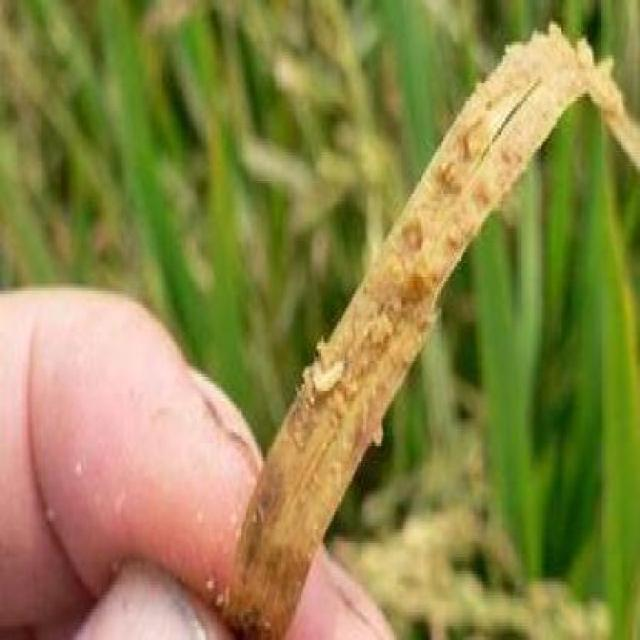whorl-maggot: (304, 338, 348, 405)
